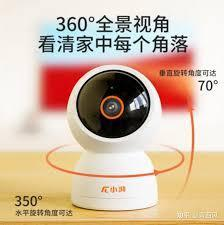maru: (59, 60, 172, 216)
